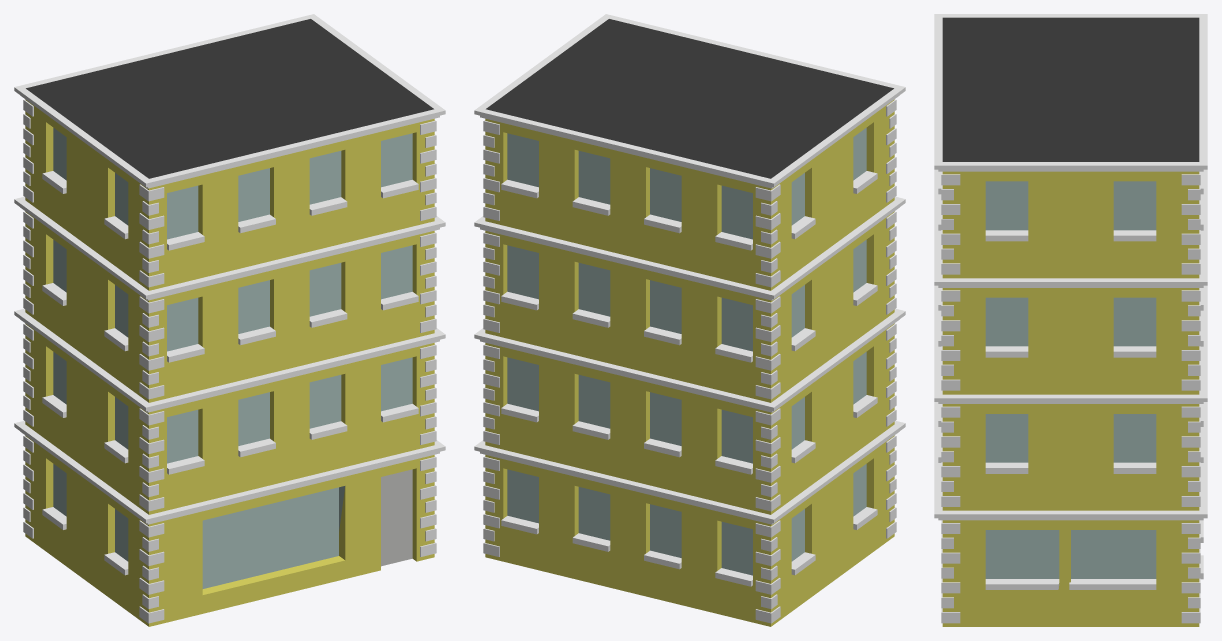
The model's file is House_Yellow.fbx.
The picture shows the model from 3 angles, left to right: view 1: azimuth 30°, elevation 25°; view 2: azimuth 150°, elevation 25°; view 3: azimuth 270°, elevation 25°; orthographic projection. The views are drawn at different scales.
Visible parts, largest first — view 1: Cube.001, Cube; view 2: Cube.001, Cube; view 3: Cube.001, Cube.
Part boxes in pixels (bbox=[...]): Cube.001: bbox=[14, 14, 445, 514]; Cube: bbox=[14, 420, 445, 626]; Cube.001: bbox=[474, 14, 905, 514]; Cube: bbox=[474, 420, 905, 626]; Cube.001: bbox=[934, 14, 1207, 510]; Cube: bbox=[934, 402, 1207, 626].
Size of the model in its own units: 840 by 1200 by 640.
